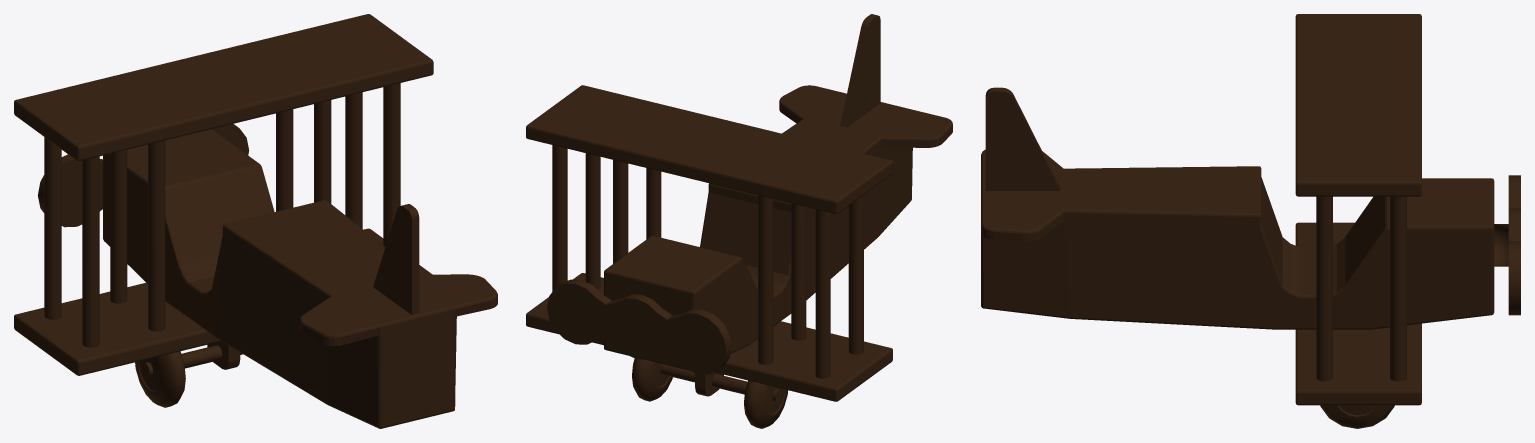
The model's file is 1avion-grande.glb.
The picture shows the model from 3 angles, left to right: view 1: azimuth 30°, elevation 25°; view 2: azimuth 150°, elevation 25°; view 3: azimuth 270°, elevation 25°; orthographic projection. The views are drawn at different scales.
Visible parts, largest first — view 1: wing.001, wing.002; view 2: wing.001, wing.002; view 3: wing.001, wing.002.
Boxes of the visible parts, bbox=[...] form: wing.001: bbox=[14, 14, 497, 428]; wing.002: bbox=[38, 124, 249, 227]; wing.001: bbox=[526, 14, 952, 428]; wing.002: bbox=[547, 279, 731, 374]; wing.001: bbox=[981, 14, 1494, 428]; wing.002: bbox=[1494, 175, 1520, 315].
Size of the model in its own units: 1.89 by 1.61 by 2.55.
